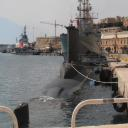submarine: (33, 22, 95, 101)
